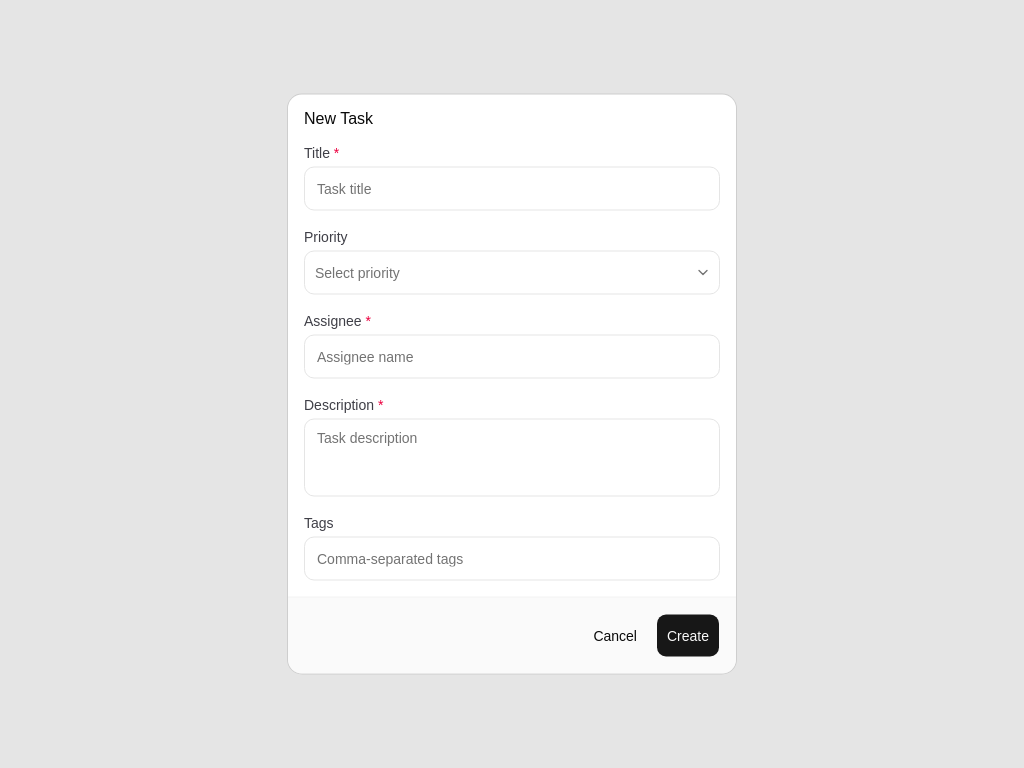
Test: TaskModal — create mode › shows guard dialog when Escape attempted with dirty fields
In the field labelled "Title *": (512, 188) [304,166,720,210], type "Some text"
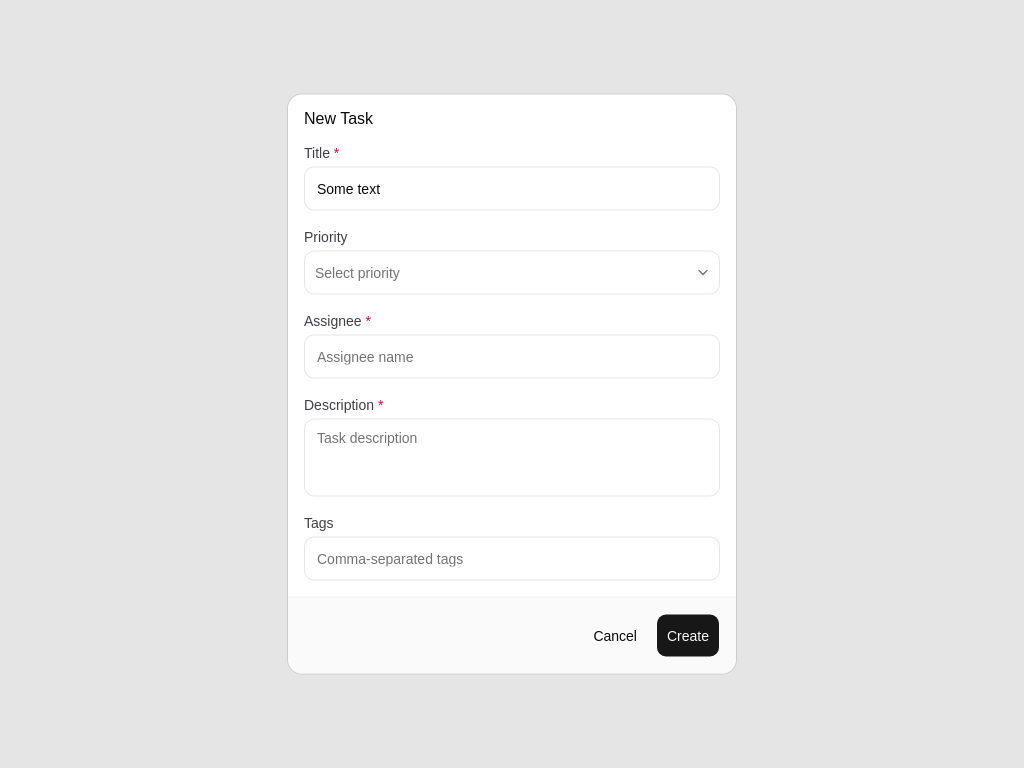
Click the button "Cancel": click(615, 636) [582,614,648,658]
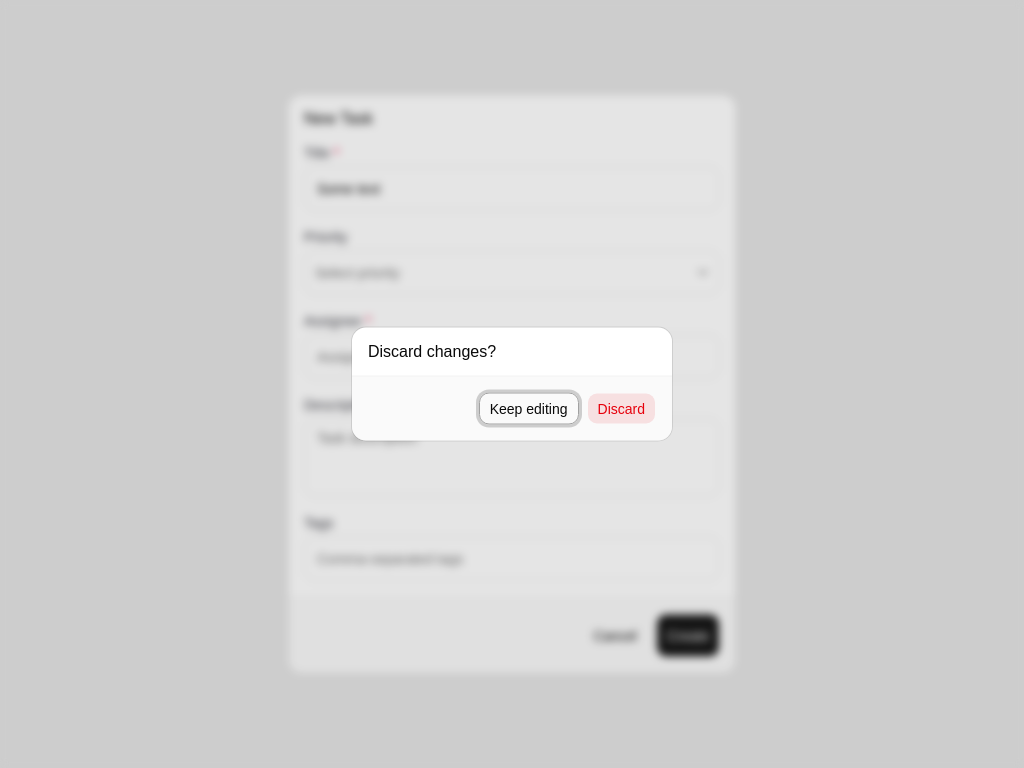
Expected: the heading "Discard changes?" is shown, [368,342,496,360]
